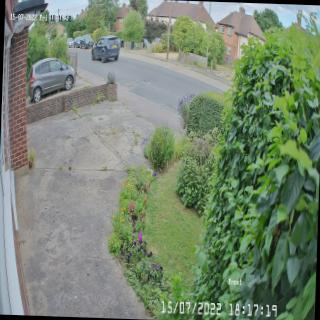car: (27, 56, 77, 104), (92, 35, 120, 64), (80, 34, 94, 50), (73, 36, 82, 48), (66, 38, 74, 48)
